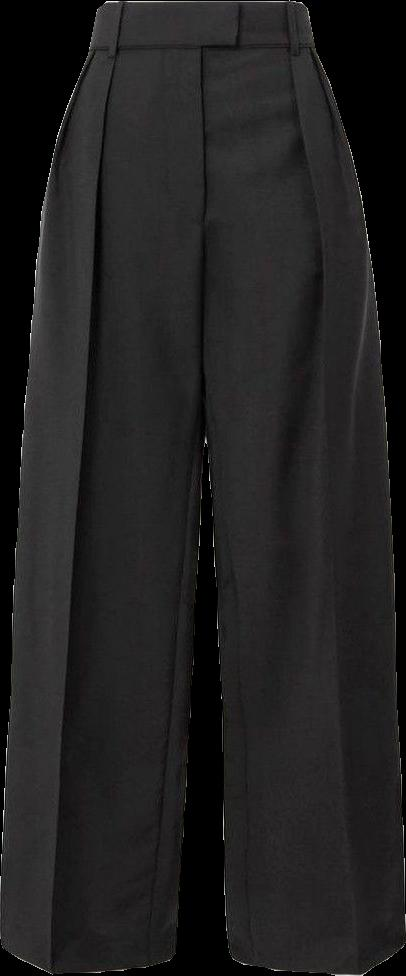Hemline: (0, 937, 178, 974), (225, 938, 405, 974)
Pantleg: (1, 0, 211, 972), (204, 0, 405, 973)
Waistline: (84, 39, 314, 62), (96, 0, 309, 15)
